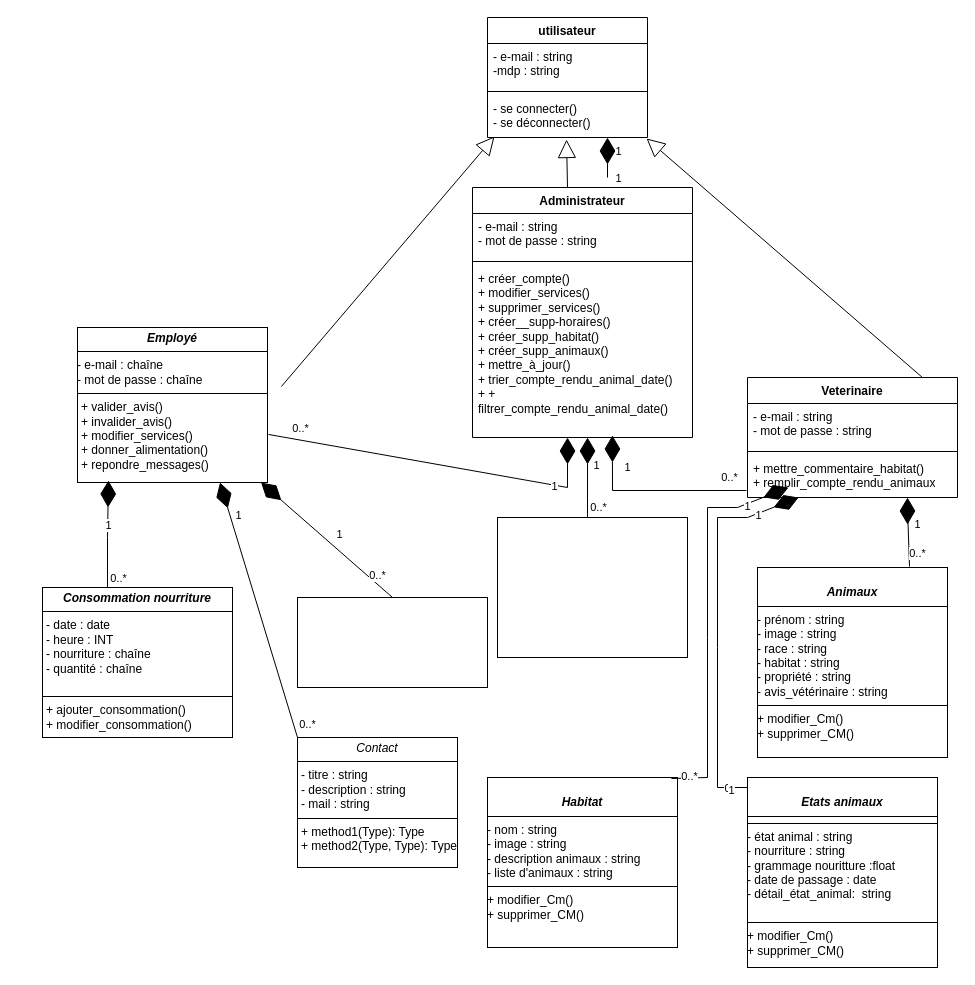
Some shapes in this 975 by 985 pixel diagram are drawn without their labels. Each missing label, with the centre of its shape:
Avis - pseud : string - contenu : string + valider avis(): the point at 392,642
Service - nom : string - description : string + modifier_Cm() + supprimer_CM(): the point at 592,587
